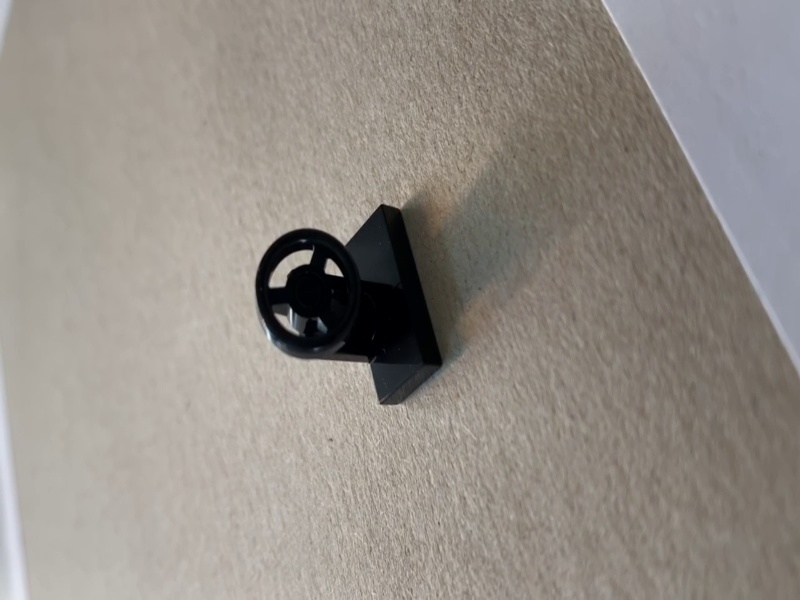steering wheel: (254, 202, 445, 405)
